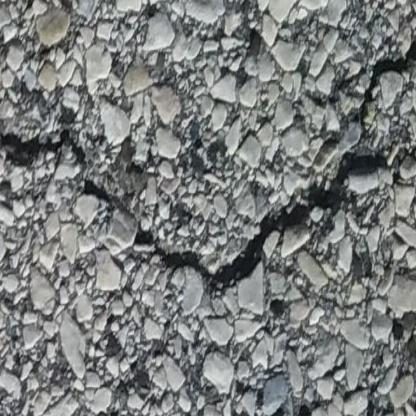Cracks: (0, 17, 416, 301)
